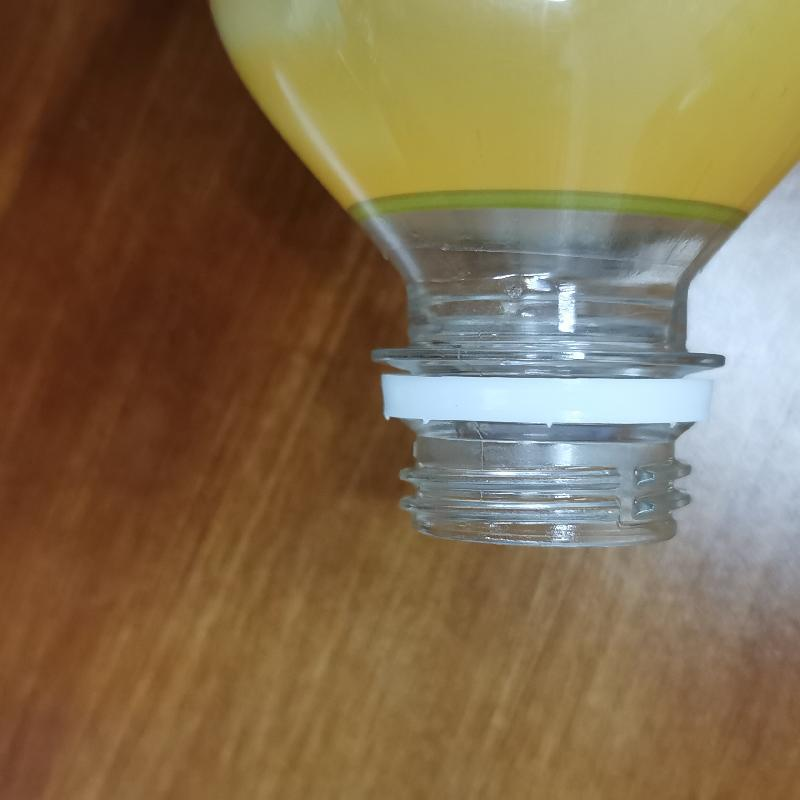bottles: (196, 3, 800, 562)
